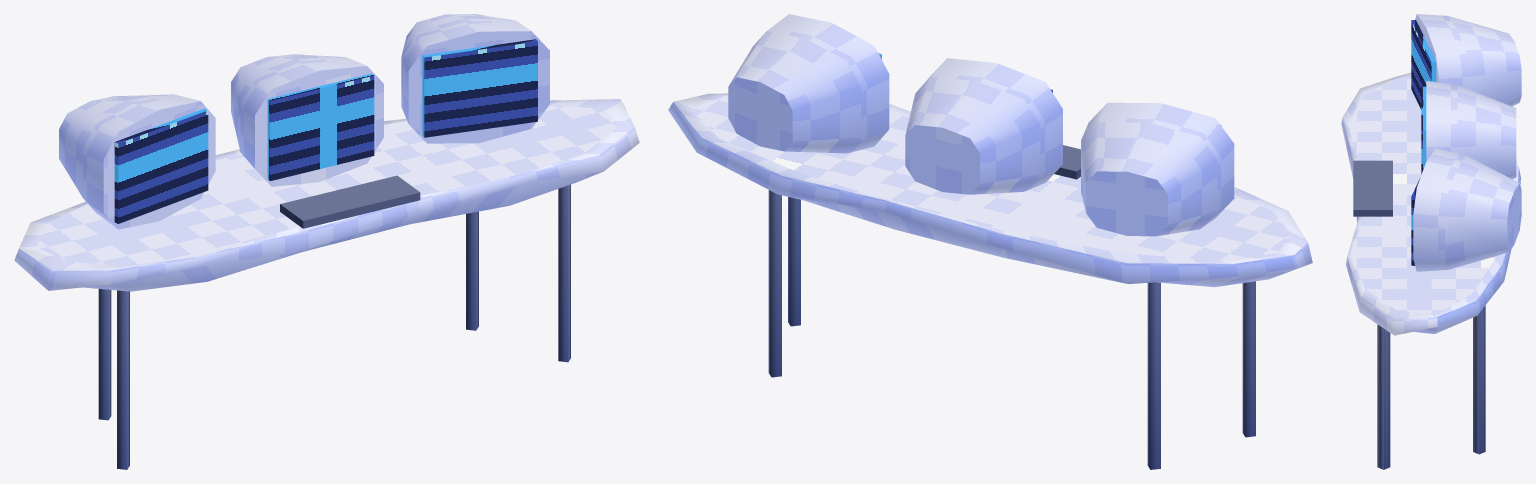
The model's file is console.glb.
3 views of the same model, side by side, from view 1: azimuth 30°, elevation 25°; view 2: azimuth 150°, elevation 25°; view 3: azimuth 270°, elevation 25° (orthographic). The views are drawn at different scales.
Parts seen in each view (by area): view 1: kit_console_body, kit_console_screens, kit_console_controls; view 2: kit_console_body; view 3: kit_console_body, kit_console_controls, kit_console_screens.
Part boxes in pixels (x1=…): kit_console_body: x1=14, y1=14, x2=639, y2=469; kit_console_screens: x1=114, y1=39, x2=537, y2=223; kit_console_controls: x1=280, y1=175, x2=420, y2=228; kit_console_body: x1=668, y1=14, x2=1312, y2=469; kit_console_body: x1=1341, y1=14, x2=1521, y2=469; kit_console_controls: x1=1353, y1=160, x2=1392, y2=216; kit_console_screens: x1=1411, y1=19, x2=1436, y2=265.
Size of the model in its own units: 2.29 by 1.16 by 0.6806.
4 materials, 2 textured.
